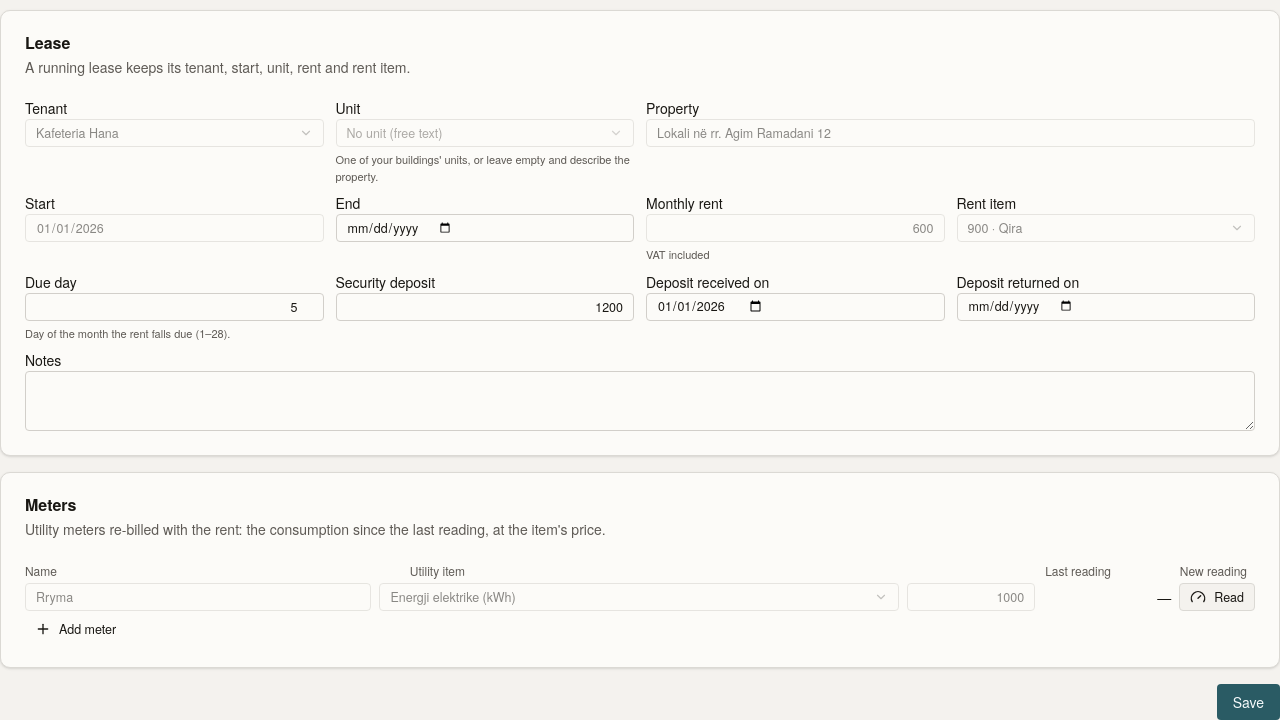
Rentals (P8) › sends a meter reading for a running lease
(page scrolled)
Click the button "Read". click: x=1217, y=597
box: [1179,583,1255,611]
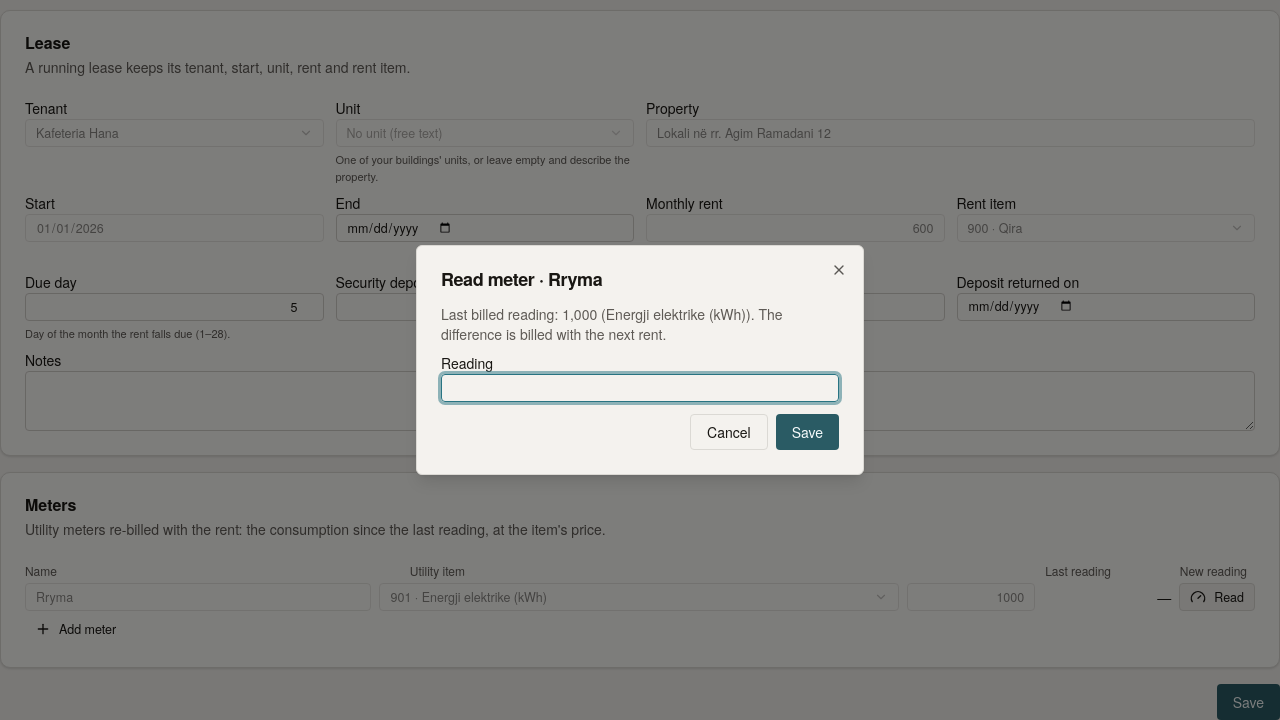
Type "1250" into the field labelled "Reading". click: x=640, y=388
box: [441,374,839,402]
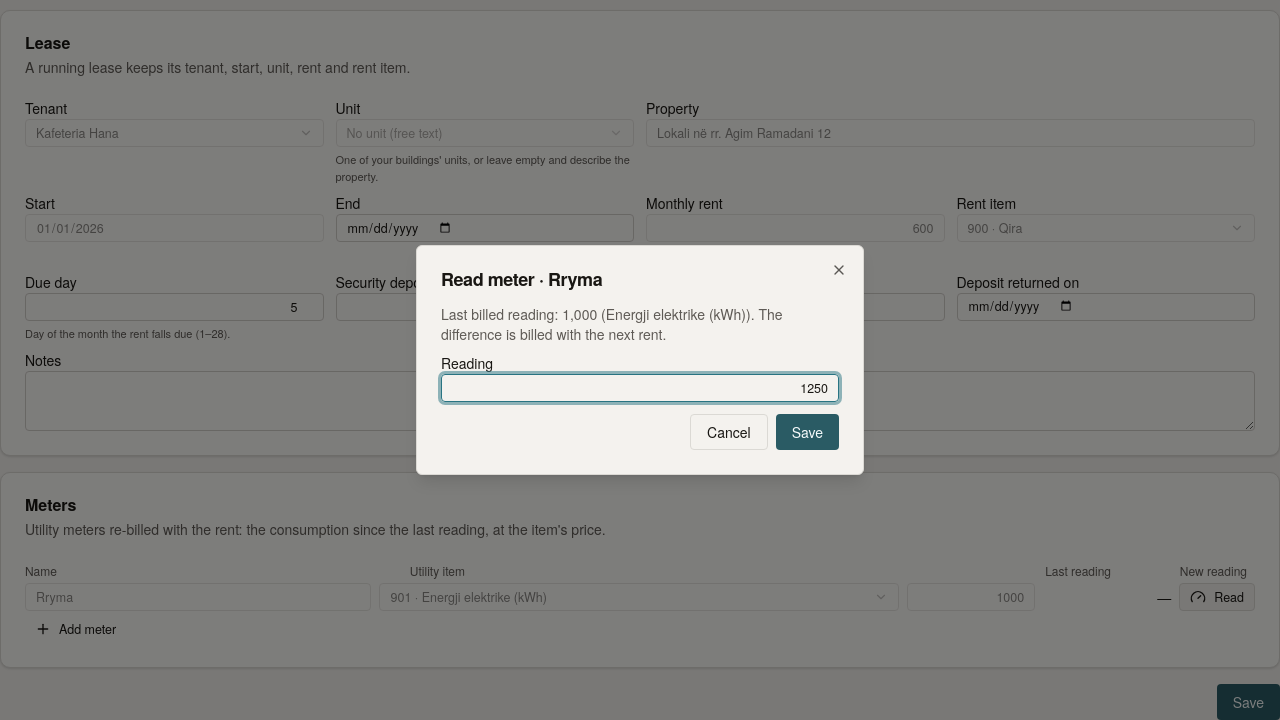
Click the button "Save". click: x=807, y=432
box: [776,414,839,450]
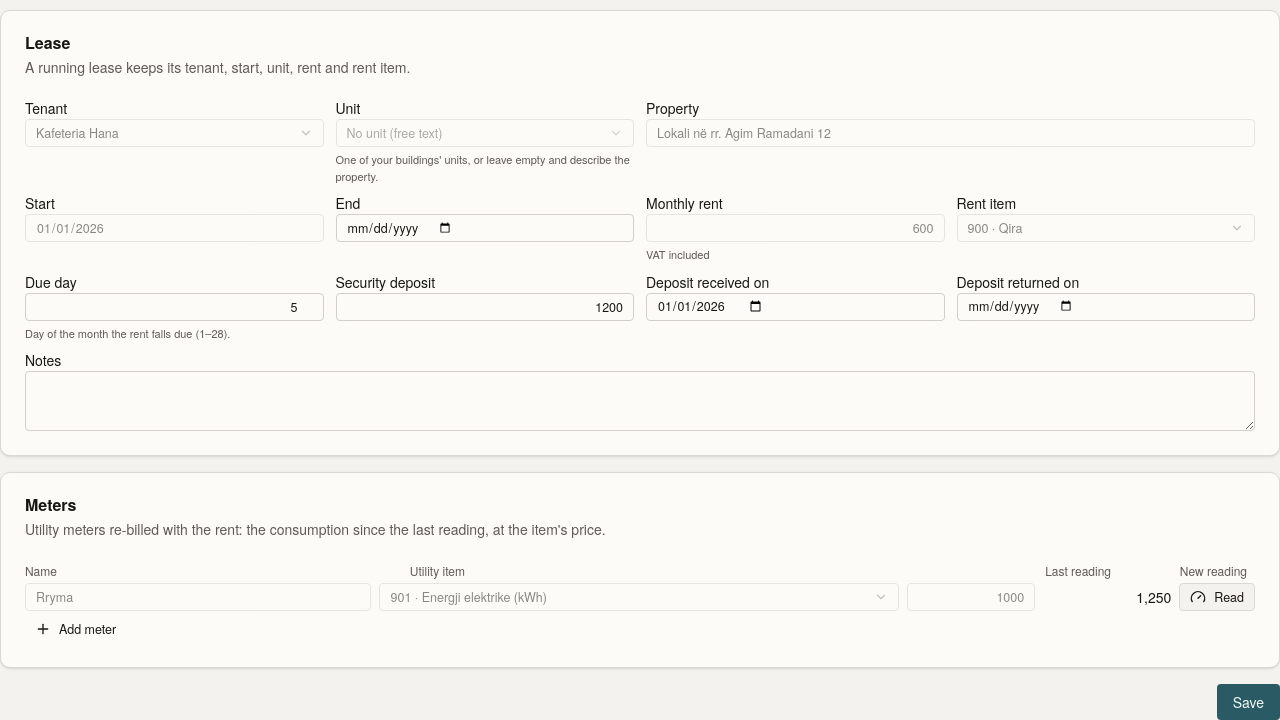
Expected: the text "1,250" is shown, [1136,587,1171,607]
